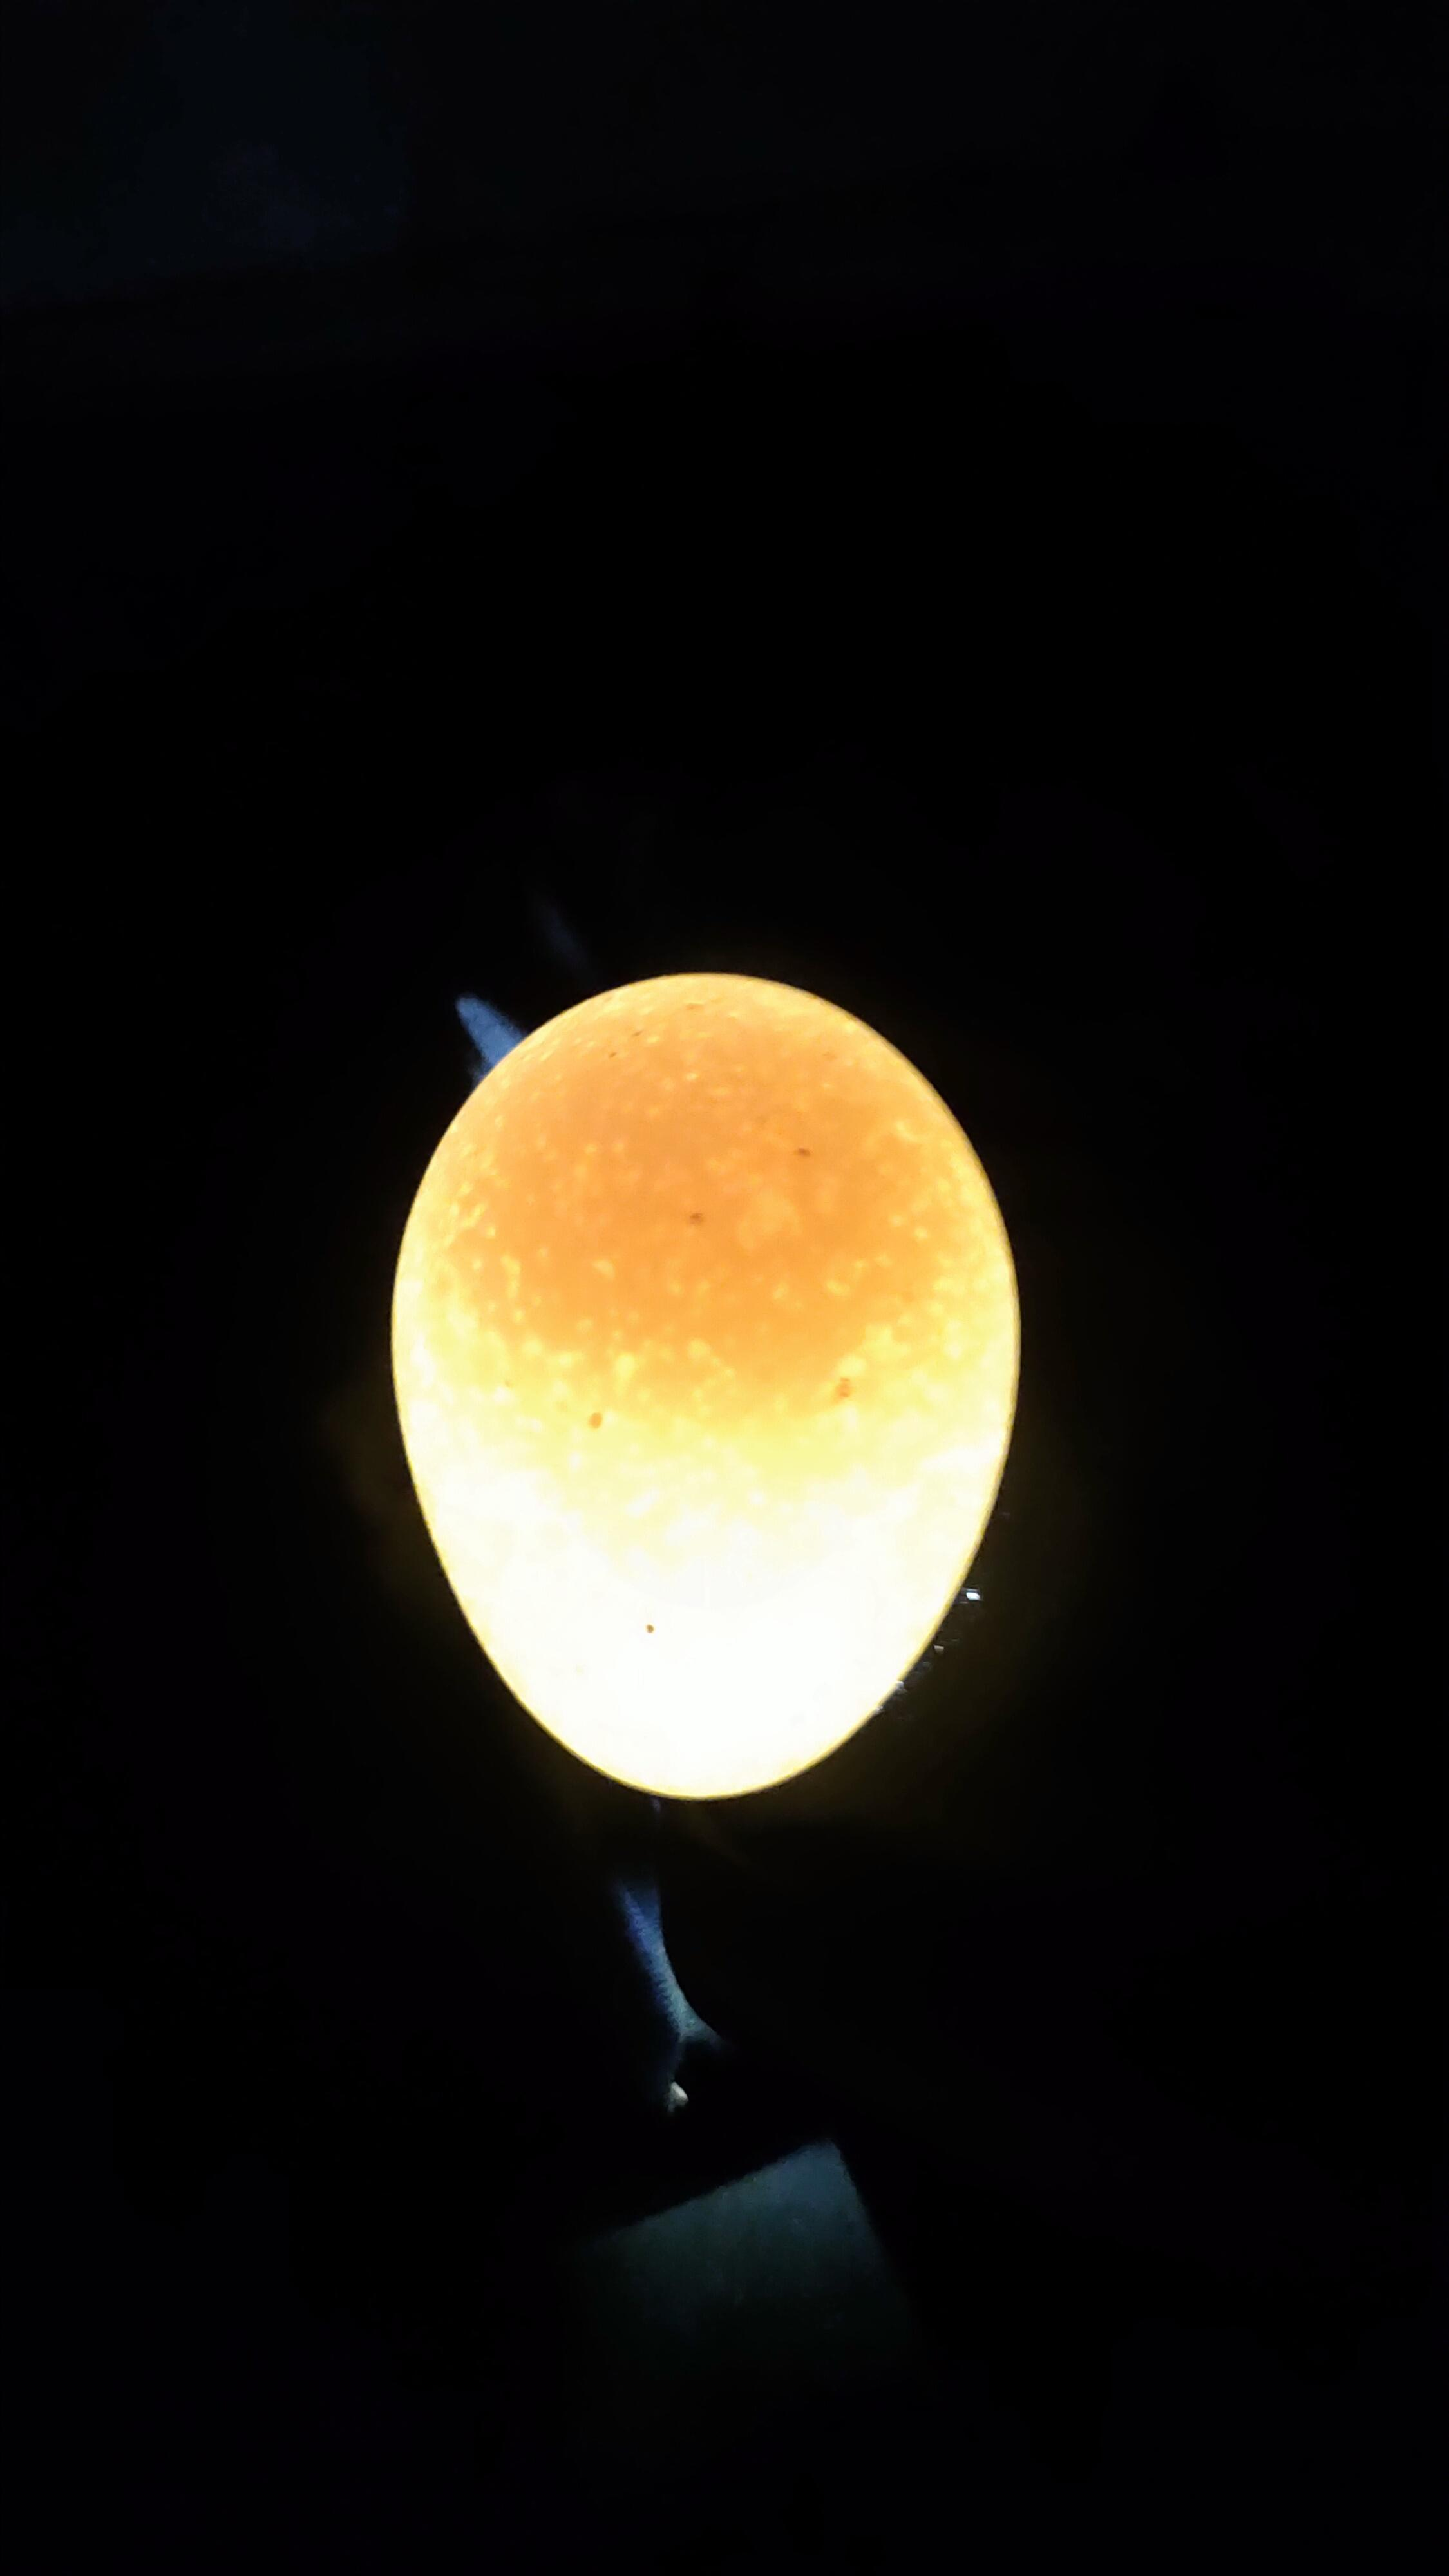Inedible: (373, 915, 1037, 1881)
